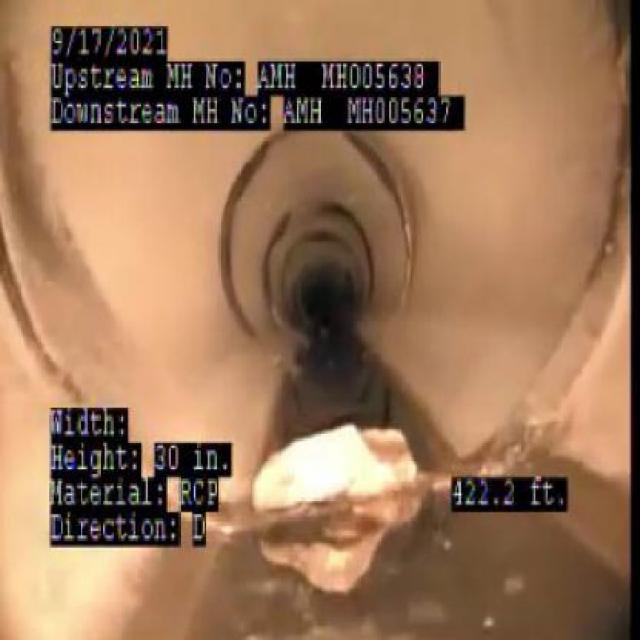Debris: (243, 408, 434, 529)
